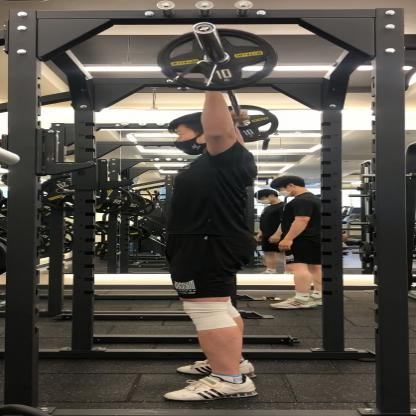Barbell: (140, 19, 300, 95)
